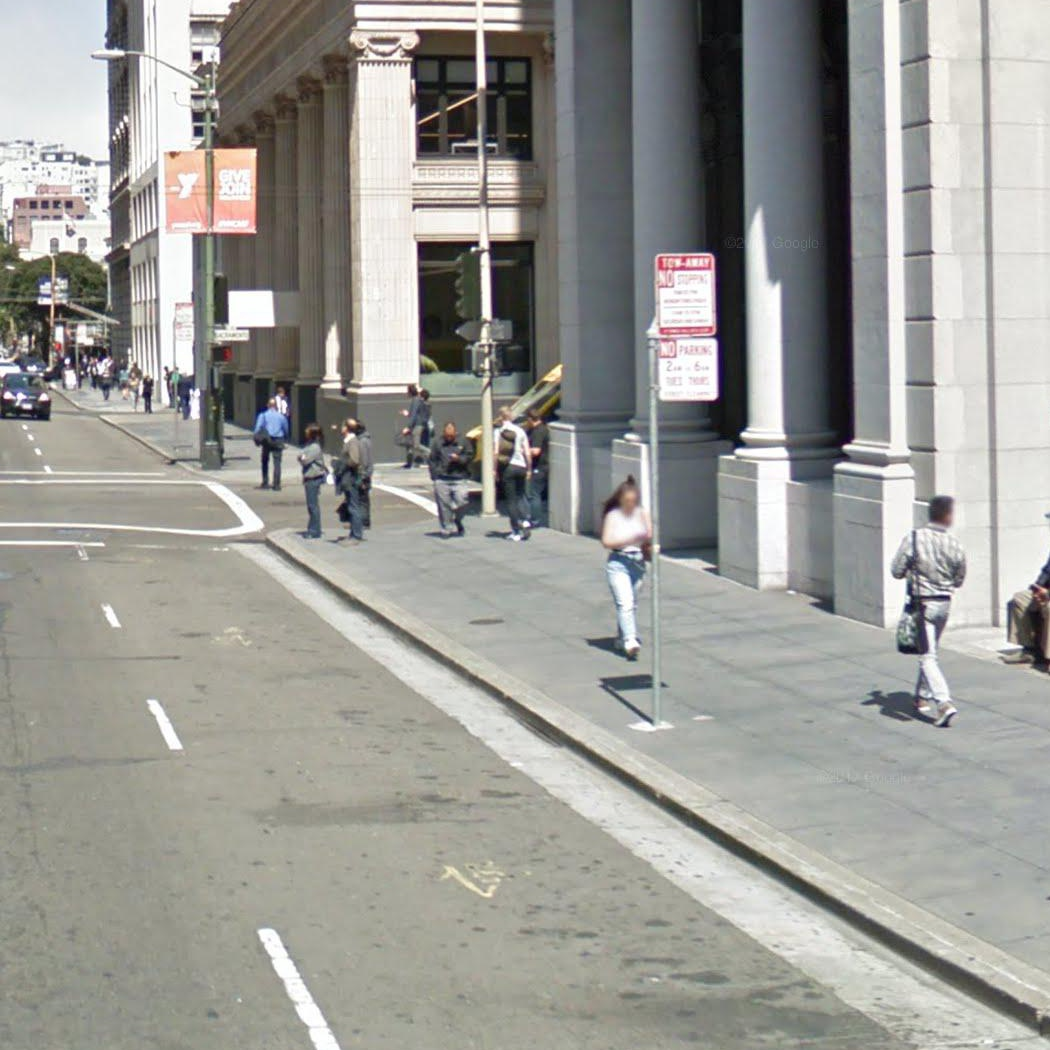No Parking: (655, 252, 718, 339), (655, 336, 721, 403)
